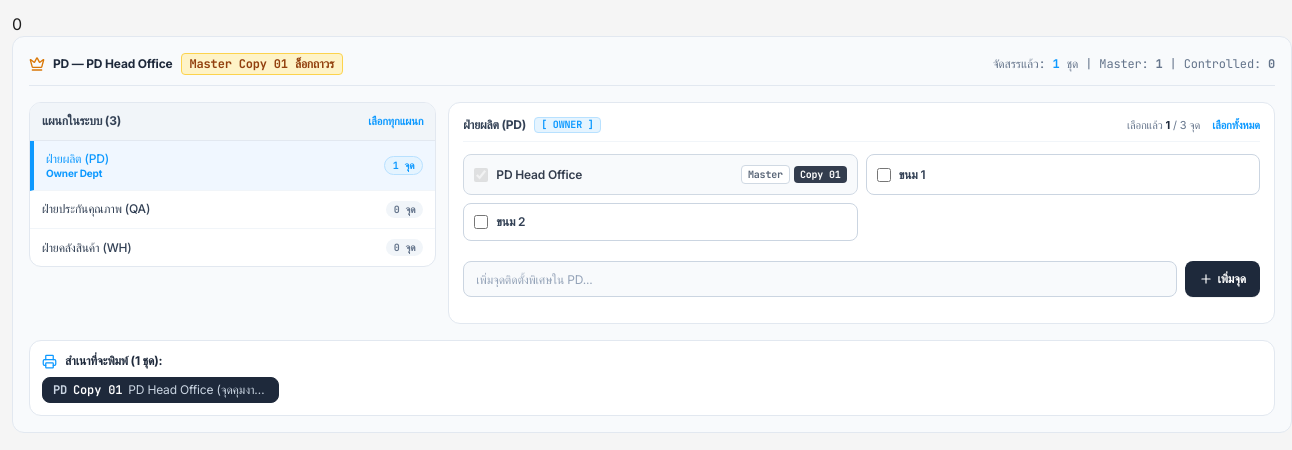
Test: Distribution Station Checkbox Click, ID Normalization & Real-time Allocation Sync Tests › Test Case 2: Clicking station "ขนม 1" selects it in single click, assigns Copy 02 and updates department counter
Check: the button "ฝ่ายผลิต (PD) Owner Dept 1 จุด" is shown, box [30,140,435,191]
Click the button "ขนม 1" at (884, 175), box [866,154,1260,195]
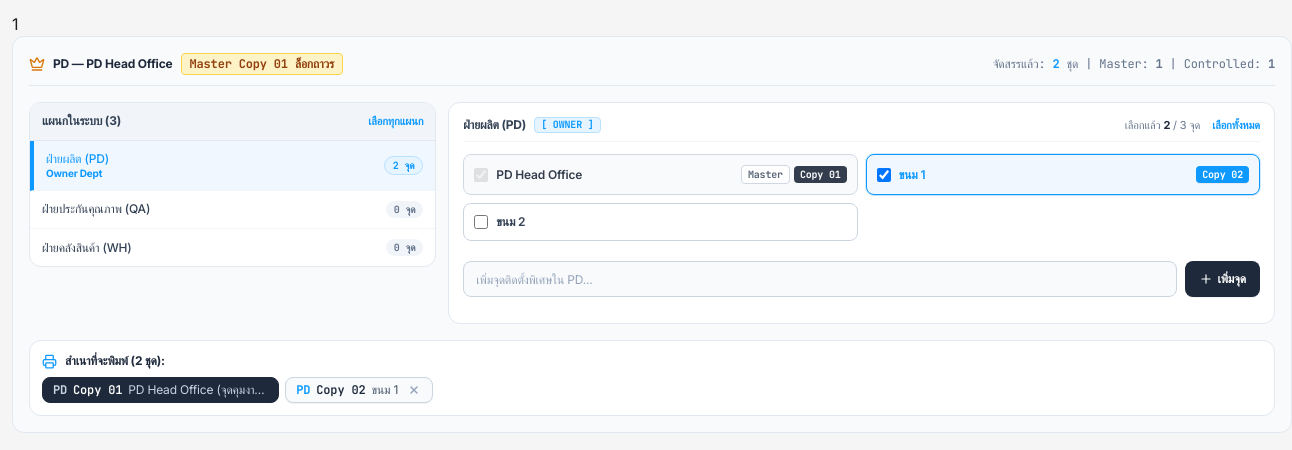
Check: the button "ฝ่ายผลิต (PD) Owner Dept 2 จุด" is shown, box [30,140,435,191]
Check: the text "สำเนาที่จะพิมพ์ (2 ชุด):" is shown, box [65,353,165,369]
Check: the text with test id "distributions-count" reads "1", box [12,14,18,34]
